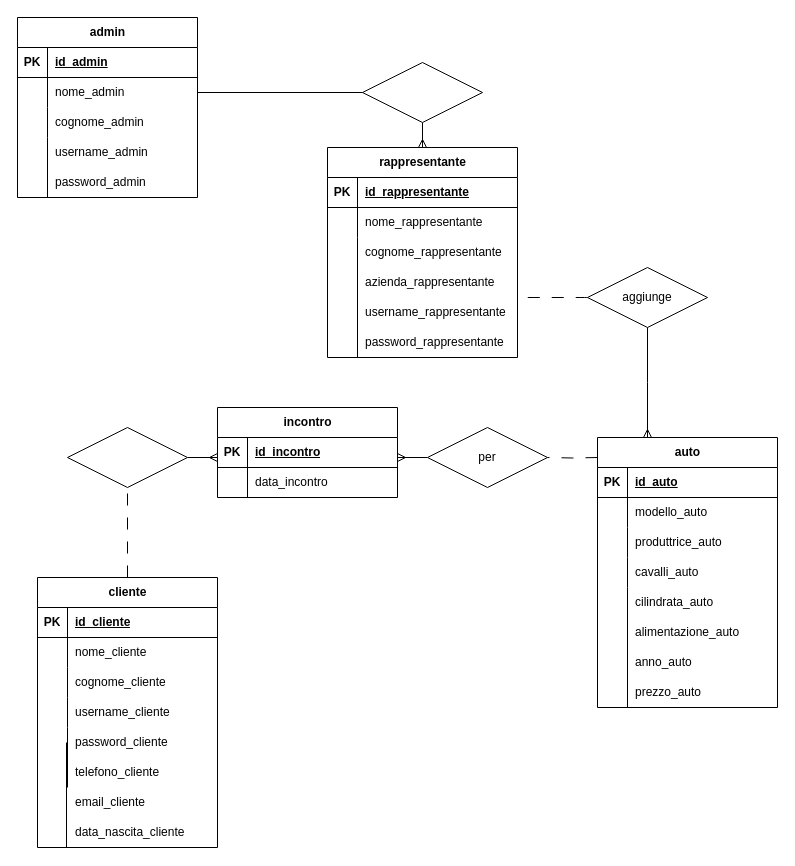
The diagram is 795 pixels wide and 866 high, and some of its shapes have lost their labels. Each missing label, with the centre of its shape:
assume: the point at 422,92
prenota: the point at 127,457
